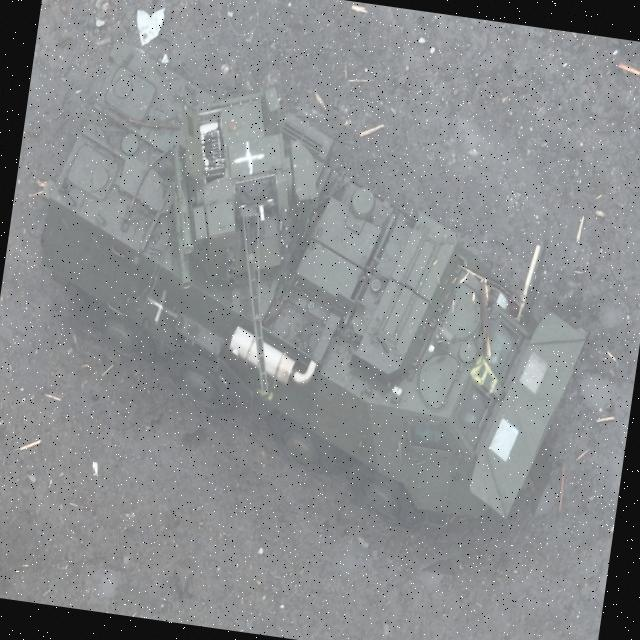APC: (2, 19, 627, 586)
